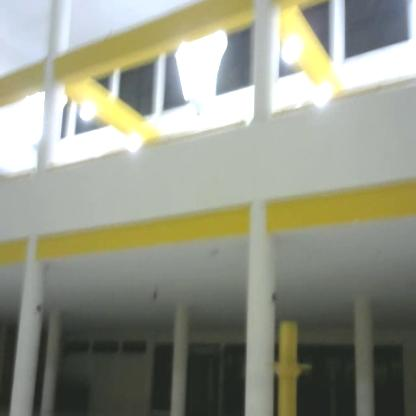pole: (267, 319, 313, 416)
